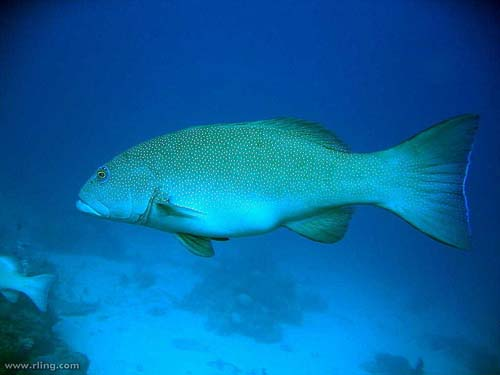fish: (75, 113, 483, 259)
